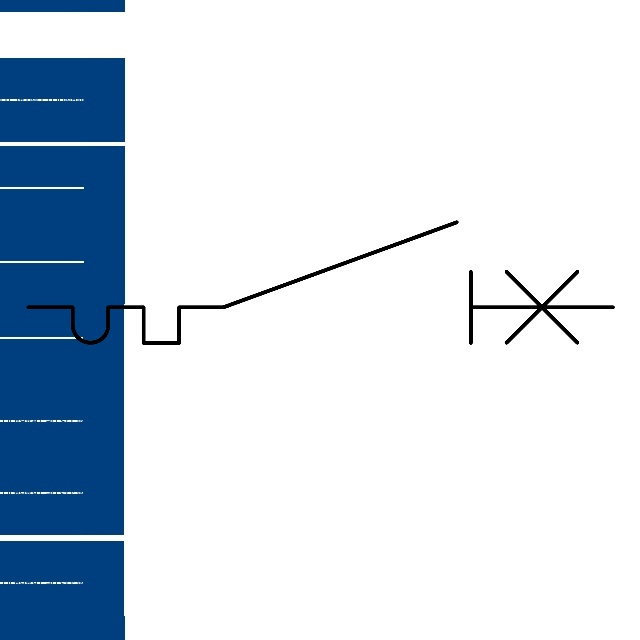interruptor_termomagnetico: (13, 207, 628, 358)
